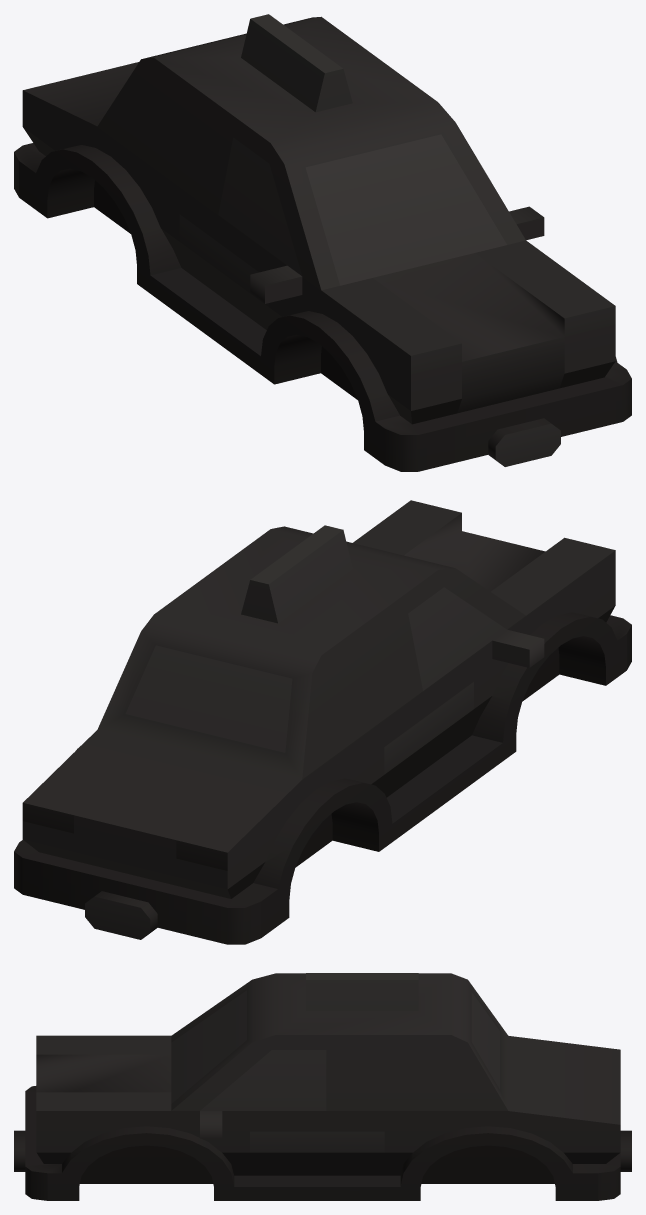
The model's file is taxi_burnt.glb.
3 views of the same model, one above another, from view 1: azimuth 30°, elevation 25°; view 2: azimuth 150°, elevation 25°; view 3: azimuth 270°, elevation 25° (orthographic). The views are drawn at different scales.
Visible parts, largest first — view 1: body; view 2: body; view 3: body.
Part boxes in pixels (x1,y1,x2,y2): body: [14, 14, 631, 471]; body: [14, 500, 631, 944]; body: [14, 973, 631, 1200].
Bounding box in the file's own units: 1.9 × 1.62 × 4.84.
Materials: 1 (1 with a texture image).
